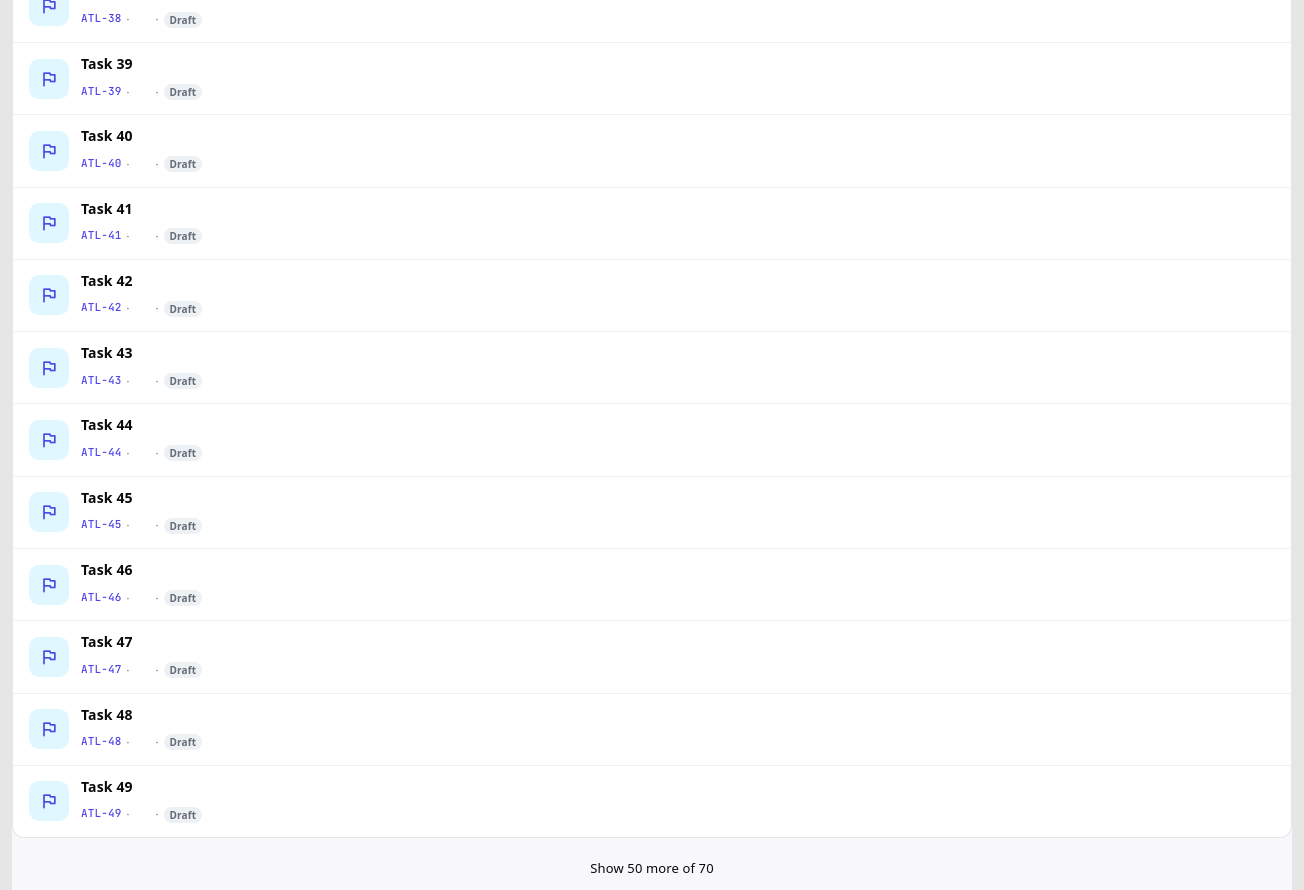
Scenario: MobileTaskList paging › renders 50 cards at a time and grows on "Show more"
(page scrolled)
Click the button "Show 50 more of 70": click(652, 868) [12,846,1292,889]
(page scrolled)
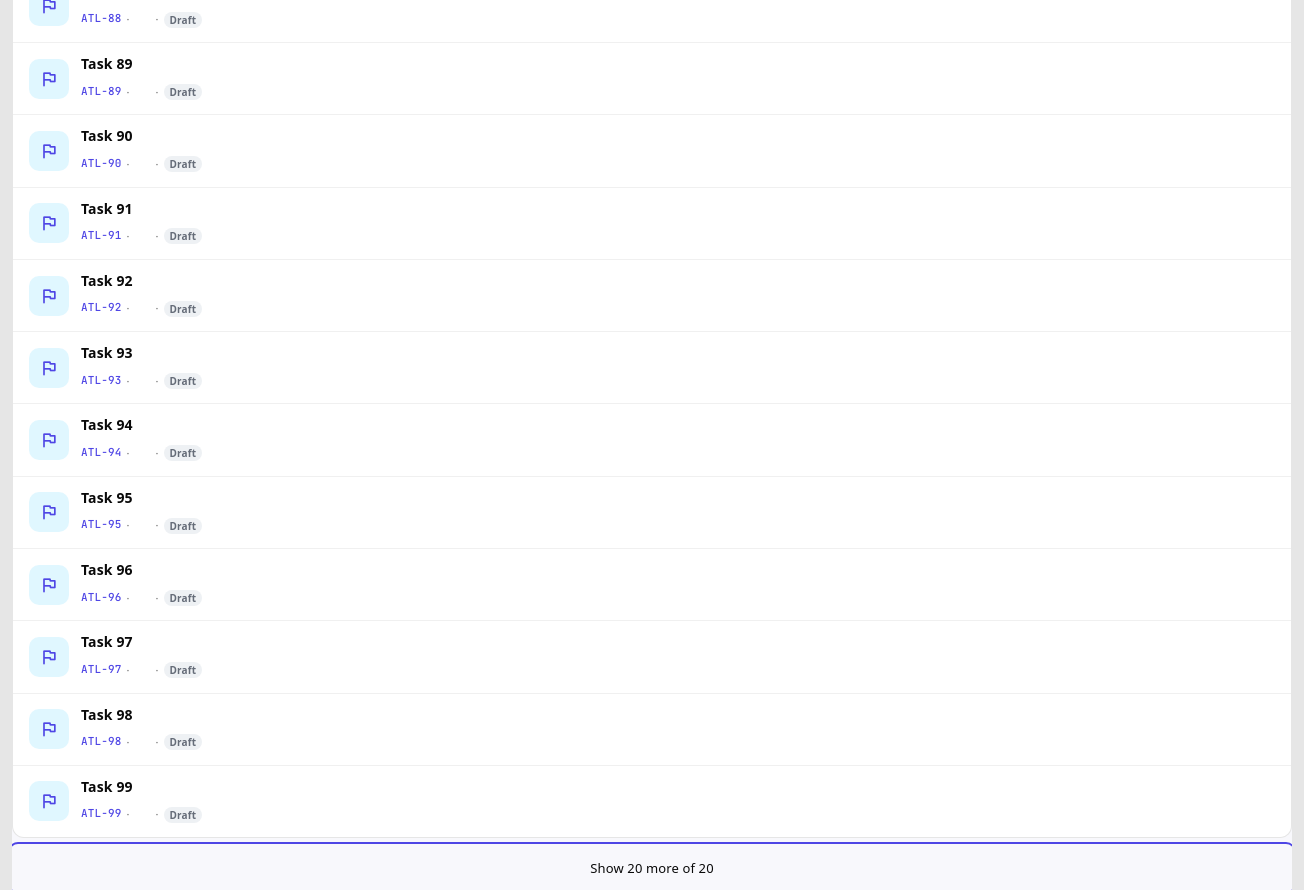
Click the button "Show 20 more of 20": click(652, 868) [12,846,1292,889]
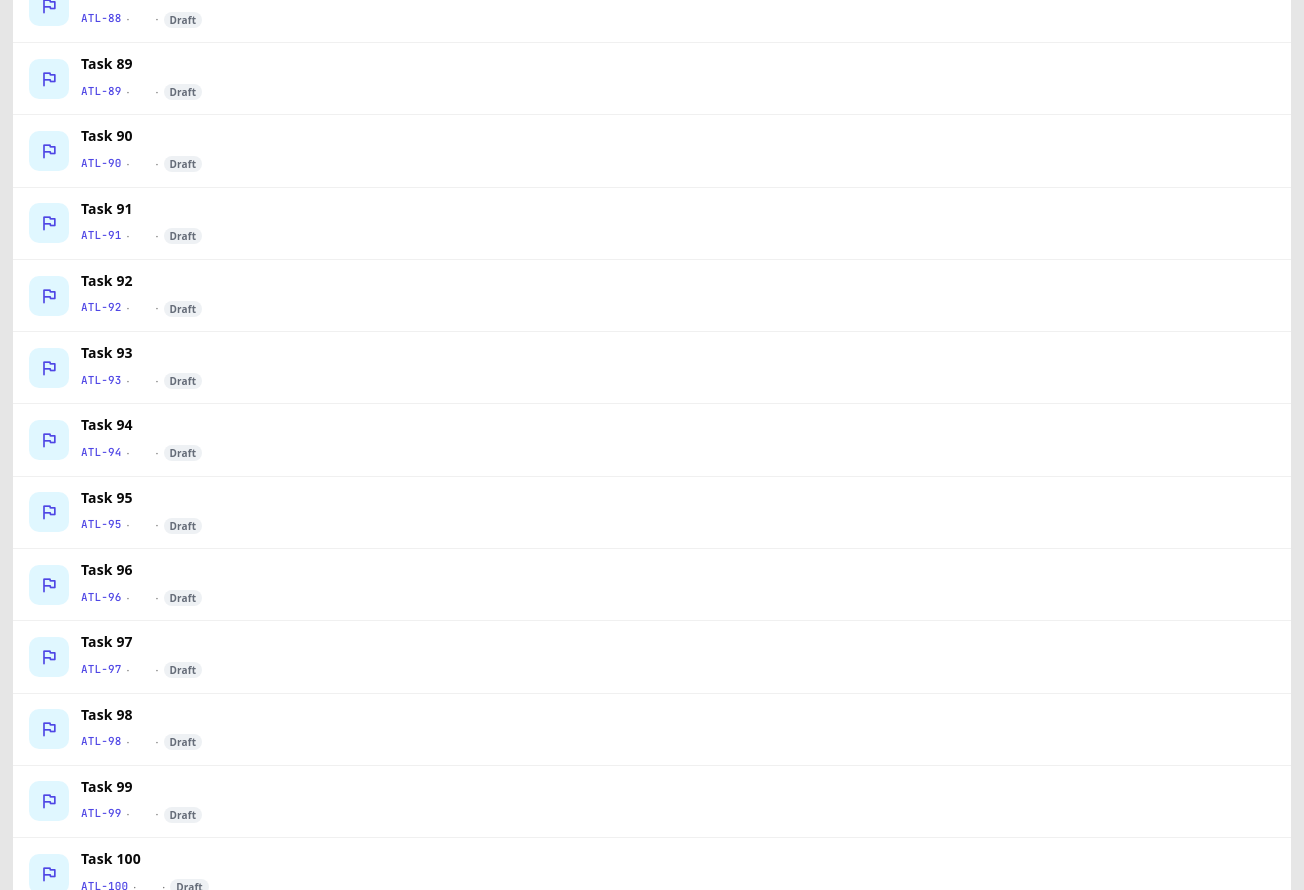
Check: the button "more of" is gone
